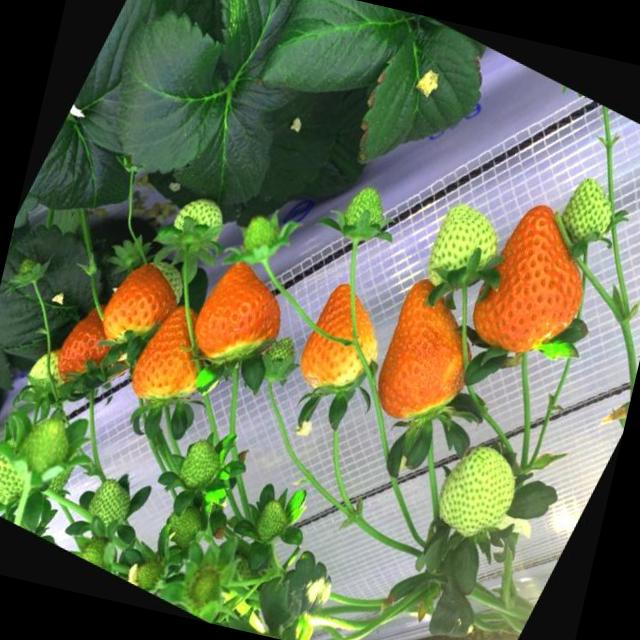ripe: (448, 185, 616, 383), (347, 262, 503, 448), (172, 249, 302, 385), (120, 294, 234, 424), (288, 271, 399, 404), (38, 292, 136, 408), (90, 252, 188, 362)
